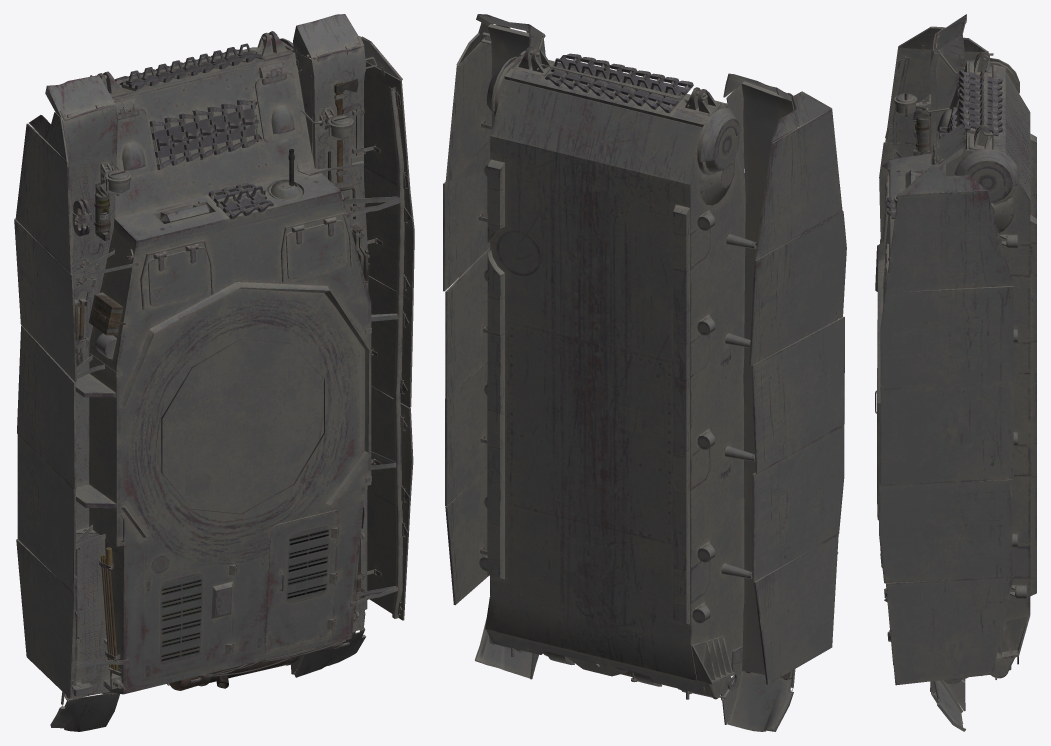
File: Hull.glb
3 renders of one model, left to right at view 1: azimuth 30°, elevation 25°; view 2: azimuth 150°, elevation 25°; view 3: azimuth 270°, elevation 25°, orthographic. The views are drawn at different scales.
Visible parts, largest first — view 1: set_0_group_0; view 2: set_0_group_0; view 3: set_0_group_0.
Boxes of the visible parts, x1,y1,x2,y2 form: set_0_group_0: [14, 14, 414, 731]; set_0_group_0: [443, 14, 846, 731]; set_0_group_0: [875, 14, 1036, 731].
Size of the model in its own units: 3.26 by 5.92 by 1.47.
Materials: 1 (1 with a texture image).
